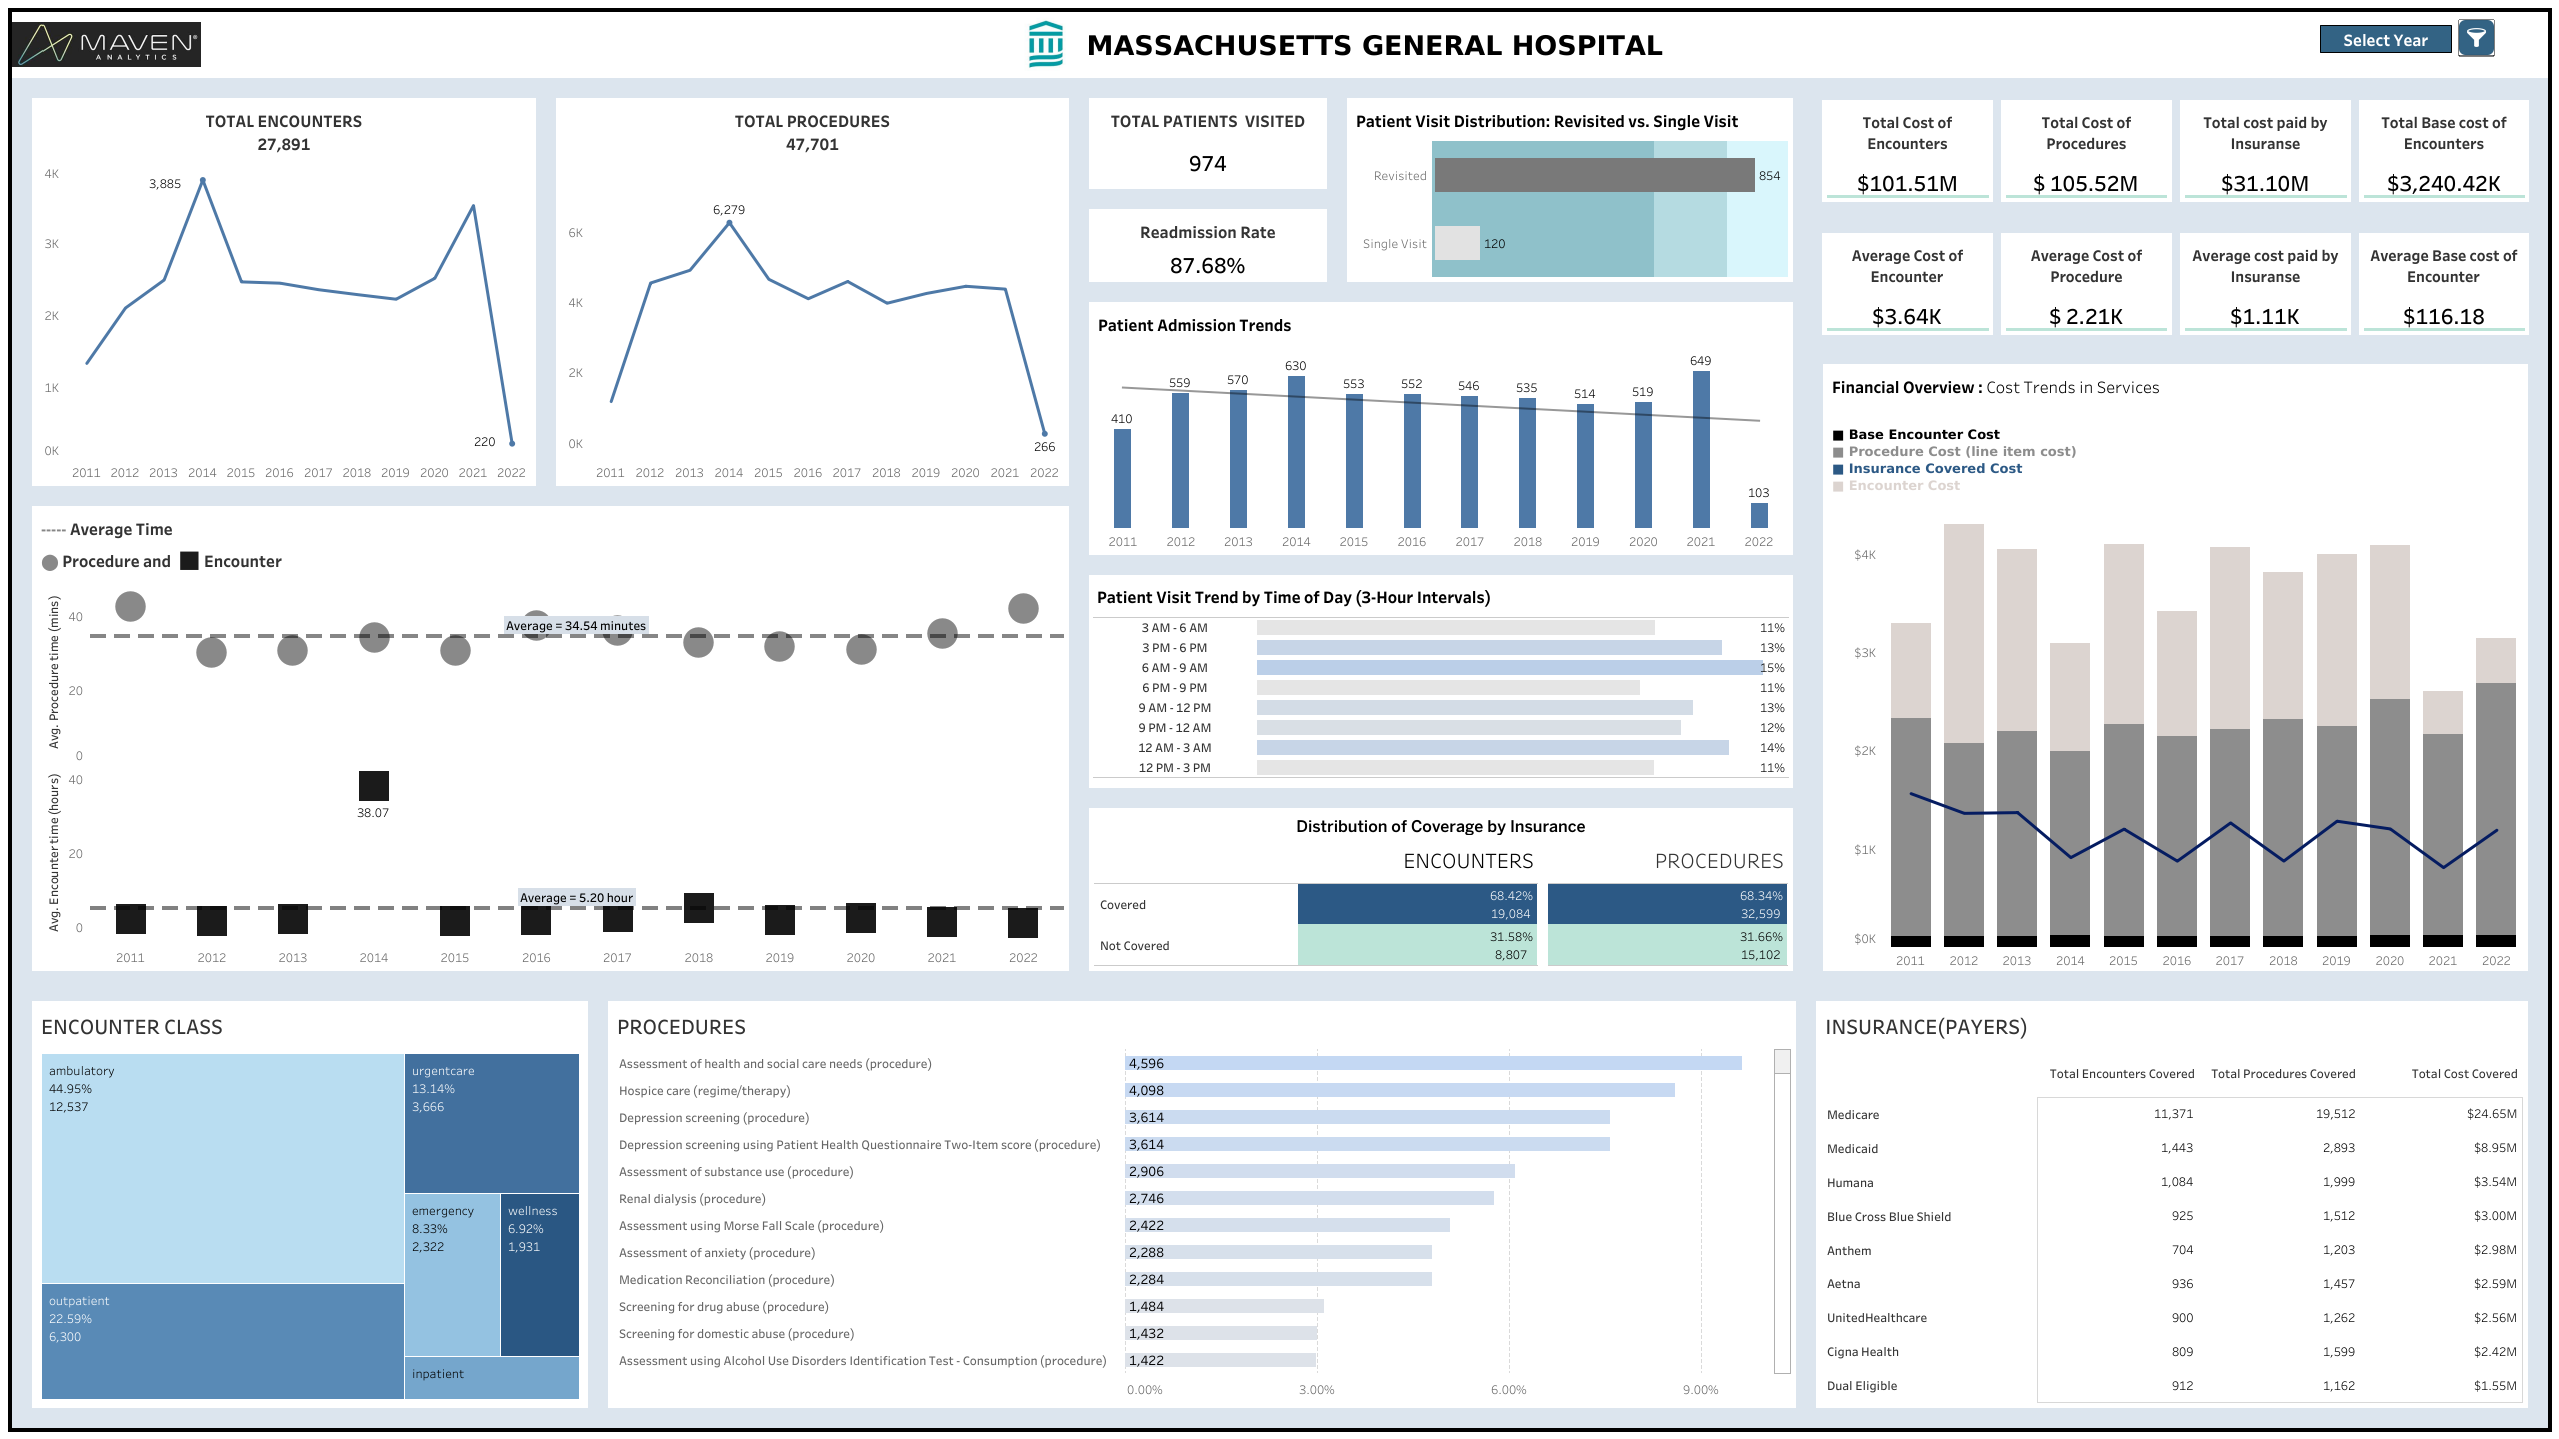

What the dashboard file says about the page in this screenshot:
{"tool":"tableau","page":{"name":"All","canvas":[2560,1440],"ordinal":0},"visuals":[{"type":"image","param":"Image/images.jpeg","box":[12,12,189,76]},{"type":"blank","box":[201,12,812,76]},{"type":"image","param":"Image/MSG logo.jpeg","box":[1013,12,66,76]},{"type":"text","box":[1079,12,1469,76]},{"type":"dashboard-object","box":[2459,20,35,36]},{"type":"dashboard-object","box":[2320,25,132,28]},{"type":"dashboard-object","box":[209,30,129,26]},{"type":"text","box":[2187,36,253,36]},{"type":"filter","title":"Sheet 9 (2)","param":"[federated.0cx04311quj7qx18me6fe1b24300].[none:GENDER:nk]","box":[2187,72,253,62]},{"type":"worksheet","title":"Sheet 19","mark":"Automatic","rows":["Id"],"cols":["START"],"box":[12,88,534,408]},{"type":"worksheet","title":"Sheet 19 (2)","mark":"Automatic","rows":["procedures.csv_6654F05E96014B4B9AB53033AA65F79B"],"cols":["START"],"box":[546,88,533,408]},{"type":"worksheet","title":"Total Patents (2)","mark":"Automatic","box":[1079,88,258,111]},{"type":"worksheet","title":"Patients Visit and Revisited (2)","mark":"Automatic","rows":["Calculation_245164739459547144"],"cols":["PATIENT"],"box":[1337,88,466,204]},{"type":"worksheet","title":"Sheet 9 (2)","mark":"Automatic","box":[1818,96,179,110]},{"type":"worksheet","title":"Sheet 12 (3)","mark":"Automatic","box":[1997,96,179,110]},{"type":"worksheet","title":"Sheet 10 (3)","mark":"Automatic","box":[2176,96,179,110]},{"type":"worksheet","title":"Sheet 11 (3)","mark":"Automatic","box":[2355,96,178,110]},{"type":"filter","title":"Sheet 9 (2)","param":"[federated.0cx04311quj7qx18me6fe1b24300].[none:ETHNICITY:nk]","box":[2187,134,253,62.3]},{"type":"filter","title":"Sheet 9 (2)","param":"[federated.0cx04311quj7qx18me6fe1b24300].[none:RACE:nk]","box":[2187,196.3,253,62.3]},{"type":"worksheet","title":"Readmission (2)","mark":"Automatic","box":[1079,199,258,93]},{"type":"worksheet","title":"Sheet 9(2) (2)","mark":"Automatic","box":[1818,229,179,110]},{"type":"worksheet","title":"Sheet 12 (4)","mark":"Automatic","box":[1997,229,179,110]},{"type":"worksheet","title":"Sheet 10 (4)","mark":"Automatic","box":[2176,229,179,110]},{"type":"worksheet","title":"Sheet 11 (4)","mark":"Automatic","box":[2355,229,178,110]},{"type":"filter","title":"COST (ALL YEARS)","param":"[federated.0cx04311quj7qx18me6fe1b24300].[none:Calculation_932526636550516742:nk","box":[2187,258.7,253,62.3]},{"type":"worksheet","title":"patients (yearly)","mark":"Bar","rows":["PATIENT"],"cols":["START"],"box":[1079,292,724,273]},{"type":"worksheet","title":"COST (ALL YEARS)","mark":"Line","rows":["Calculation_245164740211134557"],"cols":["START"],"box":[1803,353.9,745,627.6]},{"type":"worksheet","title":"AVG. Encounter vs procedure time","mark":"Bar","rows":["Length of Stay in Hours (copy)_245164740040663087","Calculation_245164739309862917"],"cols":["START"],"box":[12,496,1067,485.4]},{"type":"worksheet","title":"Sheet 47 (2)","mark":"Bar","rows":["Calculation_932526636545425412"],"box":[1079,565,724,233]},{"type":"text","box":[1079,798,724,37]},{"type":"worksheet","title":"Sheet 15 (2)","mark":"Square","rows":["Calculation_245164739319422983"],"box":[1079,835,464,146.4]},{"type":"worksheet","title":"Sheet 14 (2)","mark":"Square","rows":["Calculation_245164739319422983"],"box":[1543,835,260,146.4]},{"type":"worksheet","title":"Encounter Class (2)","mark":"Automatic","box":[22,991.4,576,426.6]},{"type":"worksheet","title":"Procedures (2)","mark":"Bar","rows":["DESCRIPTION (procedures.csv1)"],"box":[598,991.4,1208,426.6]},{"type":"worksheet","title":"Payers (2)","mark":"Automatic","rows":["NAME"],"box":[1806,991.4,732,426.6]}]}

Visuals, with their boxes in screenshot pixels (x1, y1, x2, y2), scaled from the page's 2560x1440 canvas onto the 2559x1439 screenshot:
image: (x1=12, y1=12, x2=201, y2=88)
blank: (x1=201, y1=12, x2=1013, y2=88)
image: (x1=1013, y1=12, x2=1079, y2=88)
text: (x1=1079, y1=12, x2=2547, y2=88)
dashboard-object: (x1=2458, y1=20, x2=2493, y2=56)
dashboard-object: (x1=2319, y1=25, x2=2451, y2=53)
dashboard-object: (x1=209, y1=30, x2=338, y2=56)
text: (x1=2186, y1=36, x2=2439, y2=72)
"Sheet 9 (2)" filter: (x1=2186, y1=72, x2=2439, y2=134)
"Sheet 19" worksheet: (x1=12, y1=88, x2=546, y2=496)
"Sheet 19 (2)" worksheet: (x1=546, y1=88, x2=1079, y2=496)
"Total Patents (2)" worksheet: (x1=1079, y1=88, x2=1336, y2=199)
"Patients Visit and Revisited (2)" worksheet: (x1=1336, y1=88, x2=1802, y2=292)
"Sheet 9 (2)" worksheet: (x1=1817, y1=96, x2=1996, y2=206)
"Sheet 12 (3)" worksheet: (x1=1996, y1=96, x2=2175, y2=206)
"Sheet 10 (3)" worksheet: (x1=2175, y1=96, x2=2354, y2=206)
"Sheet 11 (3)" worksheet: (x1=2354, y1=96, x2=2532, y2=206)
"Sheet 9 (2)" filter: (x1=2186, y1=134, x2=2439, y2=196)
"Sheet 9 (2)" filter: (x1=2186, y1=196, x2=2439, y2=258)
"Readmission (2)" worksheet: (x1=1079, y1=199, x2=1336, y2=292)
"Sheet 9(2) (2)" worksheet: (x1=1817, y1=229, x2=1996, y2=339)
"Sheet 12 (4)" worksheet: (x1=1996, y1=229, x2=2175, y2=339)
"Sheet 10 (4)" worksheet: (x1=2175, y1=229, x2=2354, y2=339)
"Sheet 11 (4)" worksheet: (x1=2354, y1=229, x2=2532, y2=339)
"COST (ALL YEARS)" filter: (x1=2186, y1=259, x2=2439, y2=321)
"patients (yearly)" worksheet (Bar marks): (x1=1079, y1=292, x2=1802, y2=565)
"COST (ALL YEARS)" worksheet (Line marks): (x1=1802, y1=354, x2=2547, y2=981)
"AVG. Encounter vs procedure time" worksheet (Bar marks): (x1=12, y1=496, x2=1079, y2=981)
"Sheet 47 (2)" worksheet (Bar marks): (x1=1079, y1=565, x2=1802, y2=797)
text: (x1=1079, y1=797, x2=1802, y2=834)
"Sheet 15 (2)" worksheet (Square marks): (x1=1079, y1=834, x2=1542, y2=981)
"Sheet 14 (2)" worksheet (Square marks): (x1=1542, y1=834, x2=1802, y2=981)
"Encounter Class (2)" worksheet: (x1=22, y1=991, x2=598, y2=1417)
"Procedures (2)" worksheet (Bar marks): (x1=598, y1=991, x2=1805, y2=1417)
"Payers (2)" worksheet: (x1=1805, y1=991, x2=2537, y2=1417)
